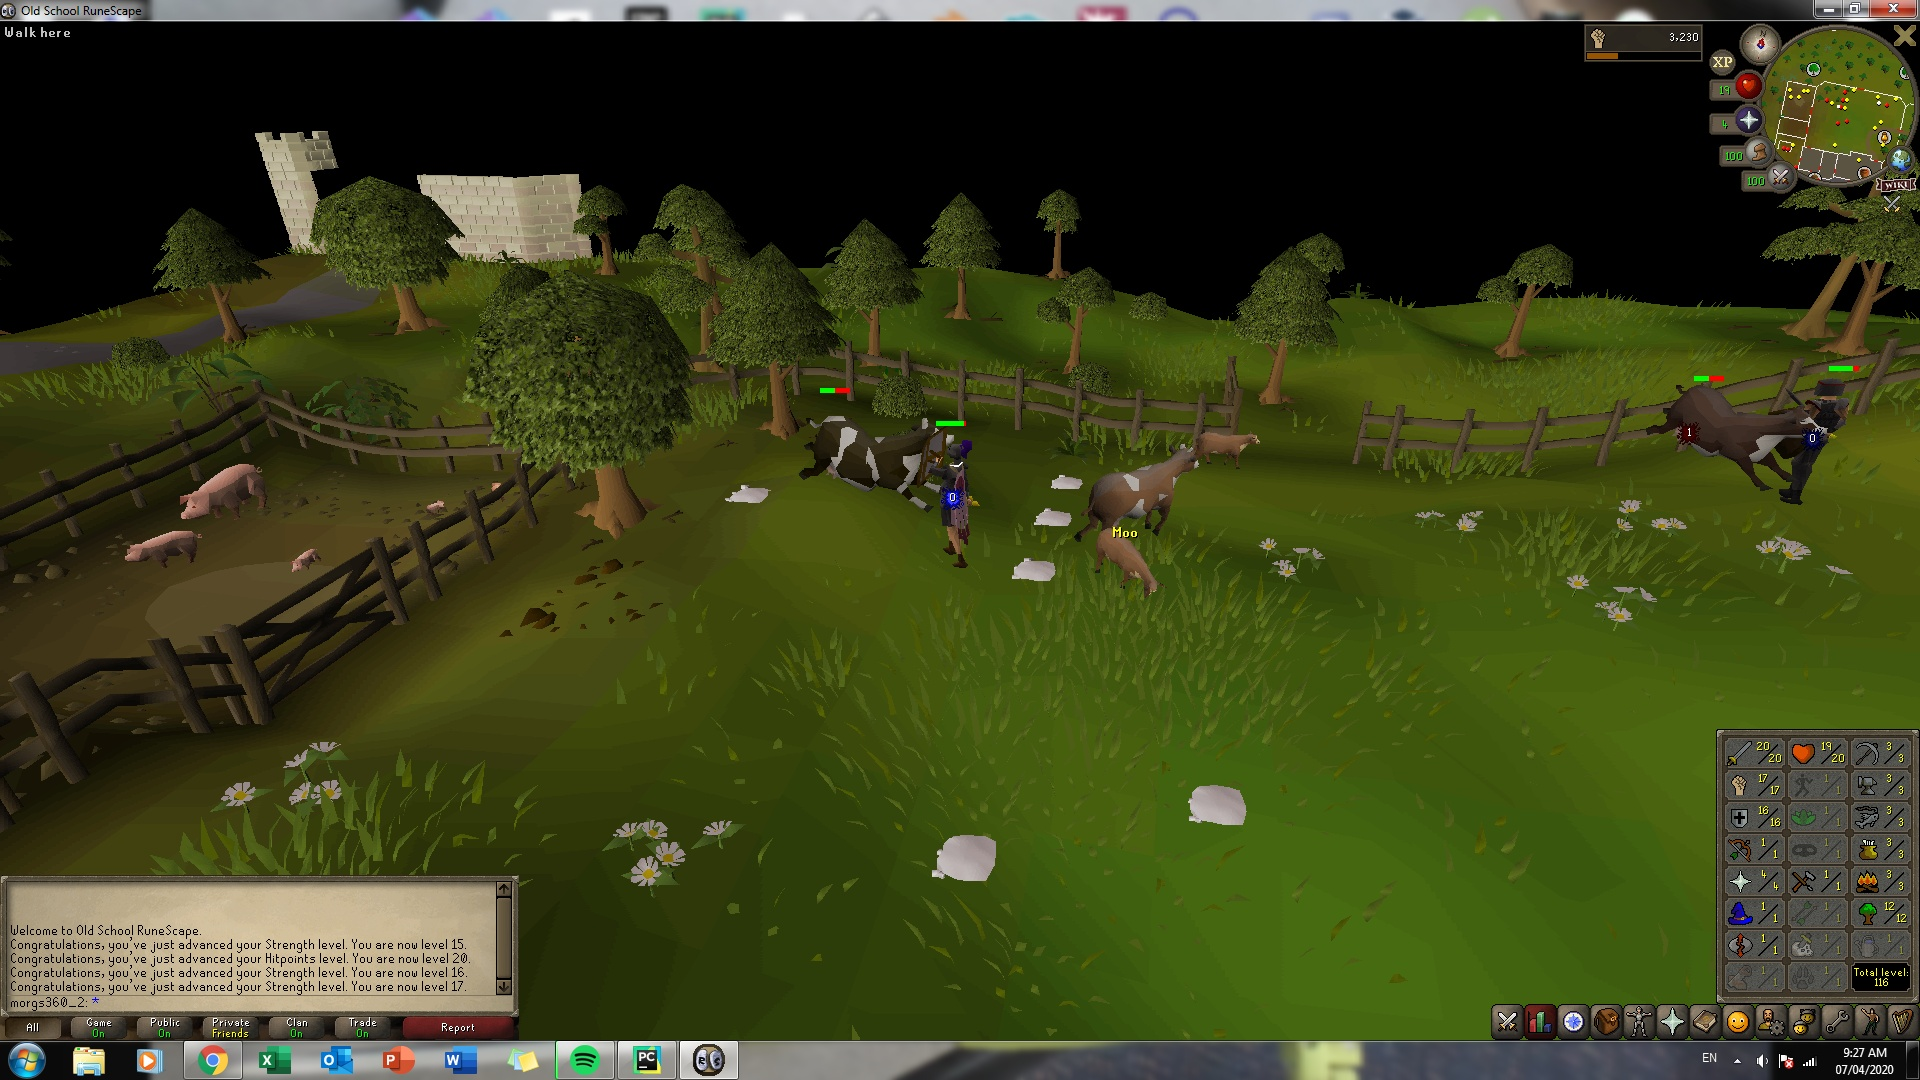cow: (1648, 375, 1795, 490), (800, 409, 944, 511), (1096, 447, 1199, 536), (1096, 528, 1164, 601), (1196, 428, 1260, 471)
player: (940, 428, 975, 570)
